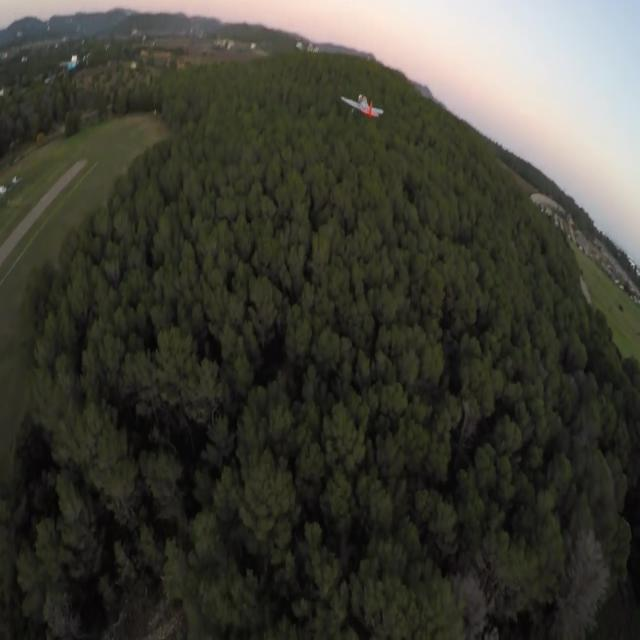iha: (341, 30, 384, 56)
